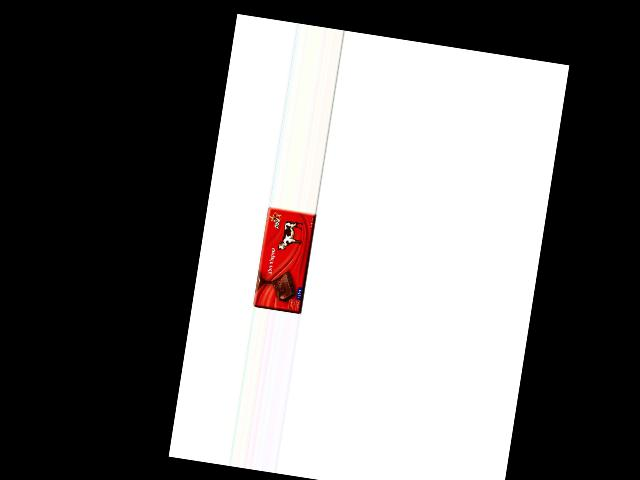chocolate: (252, 205, 316, 314)
